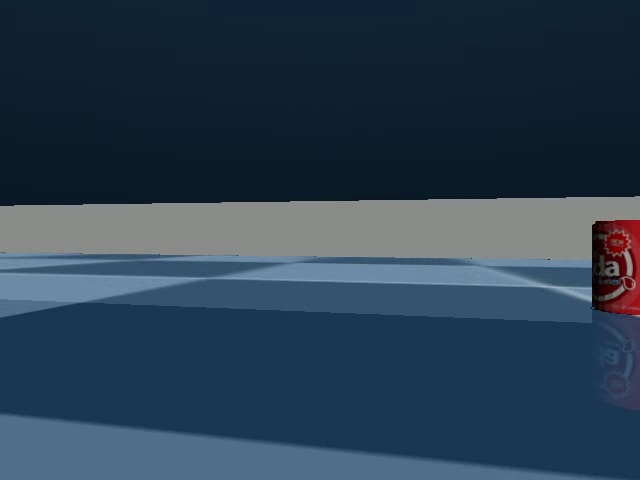can: (581, 211, 640, 330)
